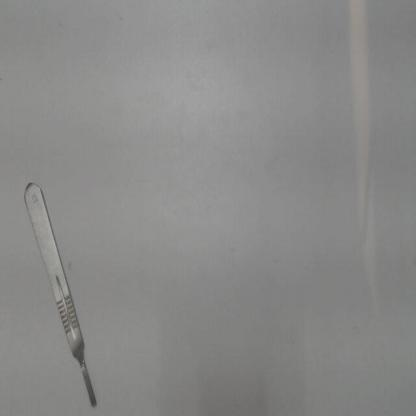No.4 BP Handle: (14, 172, 104, 412)
